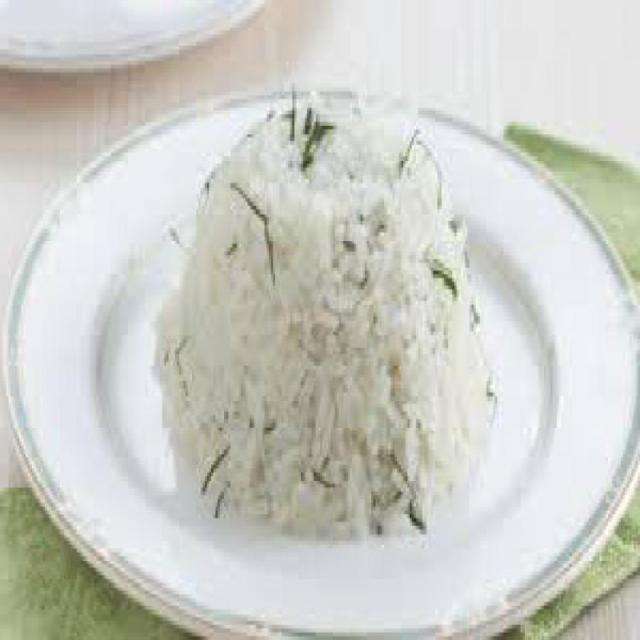nasi_putih: (158, 100, 494, 538)
